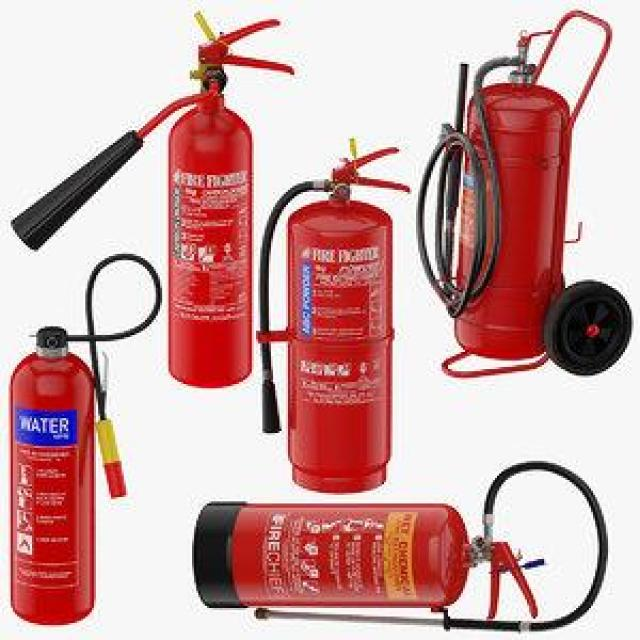fire_extinguisher: (4, 14, 297, 391), (185, 455, 609, 637), (0, 252, 160, 629), (255, 141, 415, 493), (420, 24, 576, 371)
